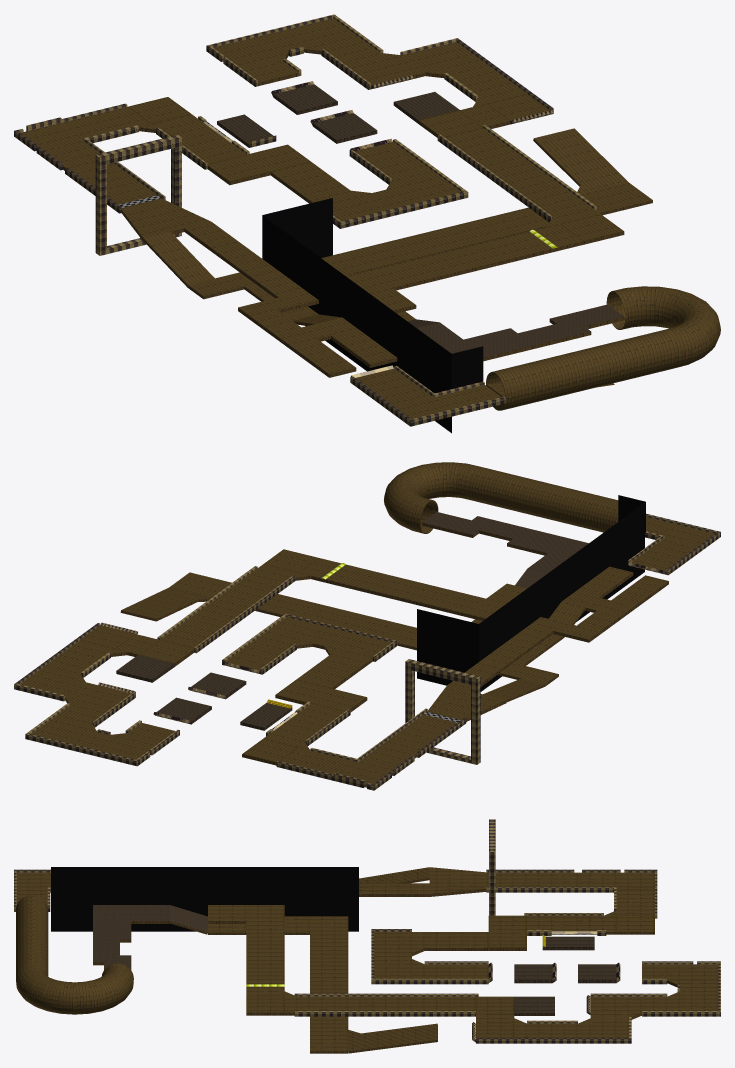
3 views of the same model, one above another, from view 1: azimuth 30°, elevation 25°; view 2: azimuth 150°, elevation 25°; view 3: azimuth 270°, elevation 25° (orthographic). The views are drawn at different scales.
Visible parts, largest first — view 1: king_s_boo_area_Main-029ef, king_s_boo_area_Main-024fffeee, king_s_boo_area_Main-Pierre_marbre_gris, king_s_boo_area_Main-Matire1, king_s_boo_area_Main-Matire6, king_s_boo_area_Main-031fre, king_s_boo_area_Main-Matire3, king_s_boo_area_Main-022, king_s_boo_area_Main-Matire2; view 2: king_s_boo_area_Main-029ef, king_s_boo_area_Main-024fffeee, king_s_boo_area_Main-Pierre_marbre_gris, king_s_boo_area_Main-Matire1, king_s_boo_area_Main-Matire6, king_s_boo_area_Main-031fre, king_s_boo_area_Main-022, king_s_boo_area_Main-Matire3, king_s_boo_area_Main-Matire2; view 3: king_s_boo_area_Main-029ef, king_s_boo_area_Main-Pierre_marbre_gris, king_s_boo_area_Main-024fffeee, king_s_boo_area_Main-Matire6, king_s_boo_area_Main-031fre, king_s_boo_area_Main-Matire1, king_s_boo_area_Main-Matire2, king_s_boo_area_Main-022, king_s_boo_area_Main-Matire3.
Boxes of the visible parts, bbox=[...] form: king_s_boo_area_Main-029ef: bbox=[21, 18, 720, 418]; king_s_boo_area_Main-024fffeee: bbox=[14, 14, 596, 426]; king_s_boo_area_Main-Pierre_marbre_gris: bbox=[262, 198, 483, 433]; king_s_boo_area_Main-Matire1: bbox=[63, 49, 652, 377]; king_s_boo_area_Main-Matire6: bbox=[408, 304, 624, 357]; king_s_boo_area_Main-031fre: bbox=[217, 84, 459, 142]; king_s_boo_area_Main-Matire3: bbox=[204, 81, 393, 377]; king_s_boo_area_Main-022: bbox=[127, 94, 623, 241]; king_s_boo_area_Main-Matire2: bbox=[217, 94, 418, 147]; king_s_boo_area_Main-029ef: bbox=[20, 462, 714, 784]; king_s_boo_area_Main-024fffeee: bbox=[14, 513, 720, 790]; king_s_boo_area_Main-Pierre_marbre_gris: bbox=[417, 495, 645, 691]; king_s_boo_area_Main-Matire1: bbox=[65, 522, 668, 765]; king_s_boo_area_Main-Matire6: bbox=[422, 512, 588, 588]; king_s_boo_area_Main-031fre: bbox=[116, 655, 290, 727]; king_s_boo_area_Main-022: bbox=[80, 549, 366, 762]; king_s_boo_area_Main-Matire3: bbox=[153, 562, 664, 730]; king_s_boo_area_Main-Matire2: bbox=[116, 664, 292, 730]; king_s_boo_area_Main-029ef: bbox=[16, 867, 718, 1051]; king_s_boo_area_Main-Pierre_marbre_gris: bbox=[51, 867, 358, 931]; king_s_boo_area_Main-024fffeee: bbox=[14, 819, 720, 1043]; king_s_boo_area_Main-Matire6: bbox=[93, 905, 207, 969]; king_s_boo_area_Main-031fre: bbox=[514, 936, 616, 1013]; king_s_boo_area_Main-Matire1: bbox=[93, 878, 677, 1053]; king_s_boo_area_Main-Matire2: bbox=[514, 947, 616, 1015]; king_s_boo_area_Main-022: bbox=[246, 915, 654, 1037]; king_s_boo_area_Main-Matire3: bbox=[488, 931, 620, 979].
Bounding box in the file's own units: 39297 × 8275 × 66535.
Materials: 15 (15 with a texture image).
